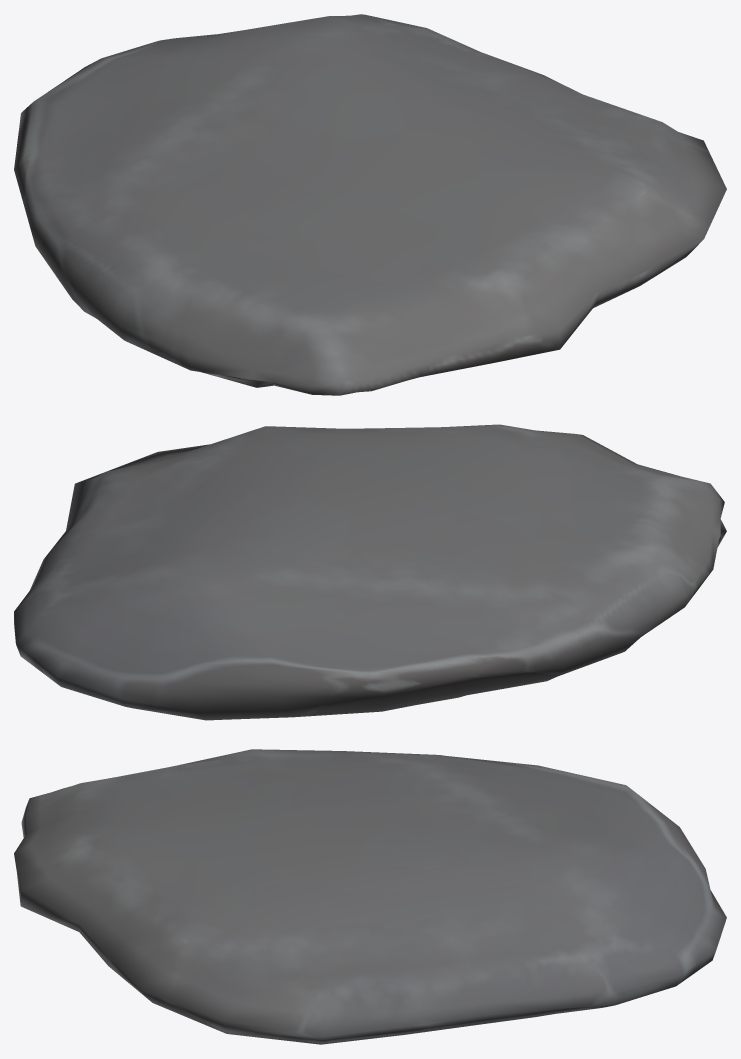
File: rock_small_001.fbx
3 renders of one model, top to bottom at view 1: azimuth 30°, elevation 25°; view 2: azimuth 150°, elevation 25°; view 3: azimuth 270°, elevation 25°, orthographic. The views are drawn at different scales.
Visible parts, largest first — view 1: rock_small_001; view 2: rock_small_001; view 3: rock_small_001.
Boxes of the visible parts, <box> form: rock_small_001: <box>14,14,726,395</box>; rock_small_001: <box>14,424,726,720</box>; rock_small_001: <box>14,749,726,1044</box>.
Size of the model in its own units: 3.24 by 0.522 by 3.59.
